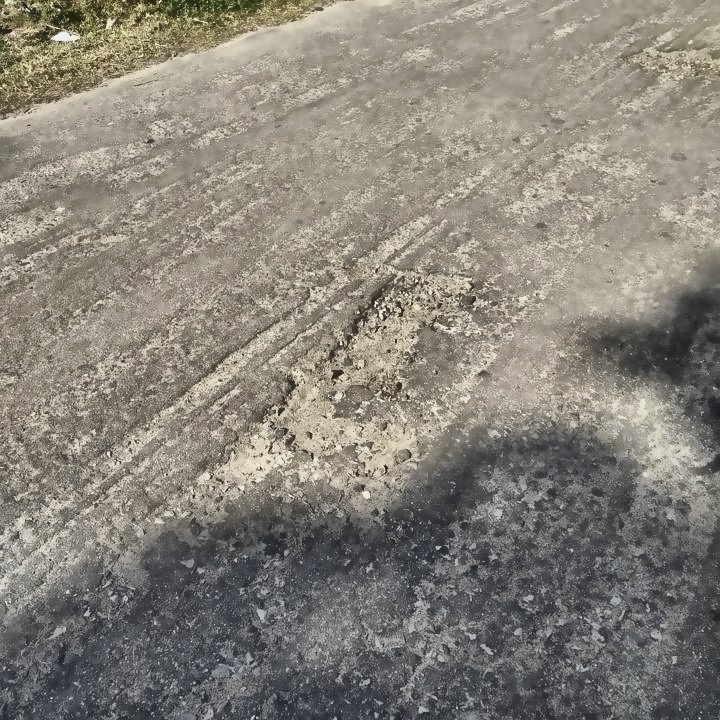pothole: (265, 267, 479, 472)
